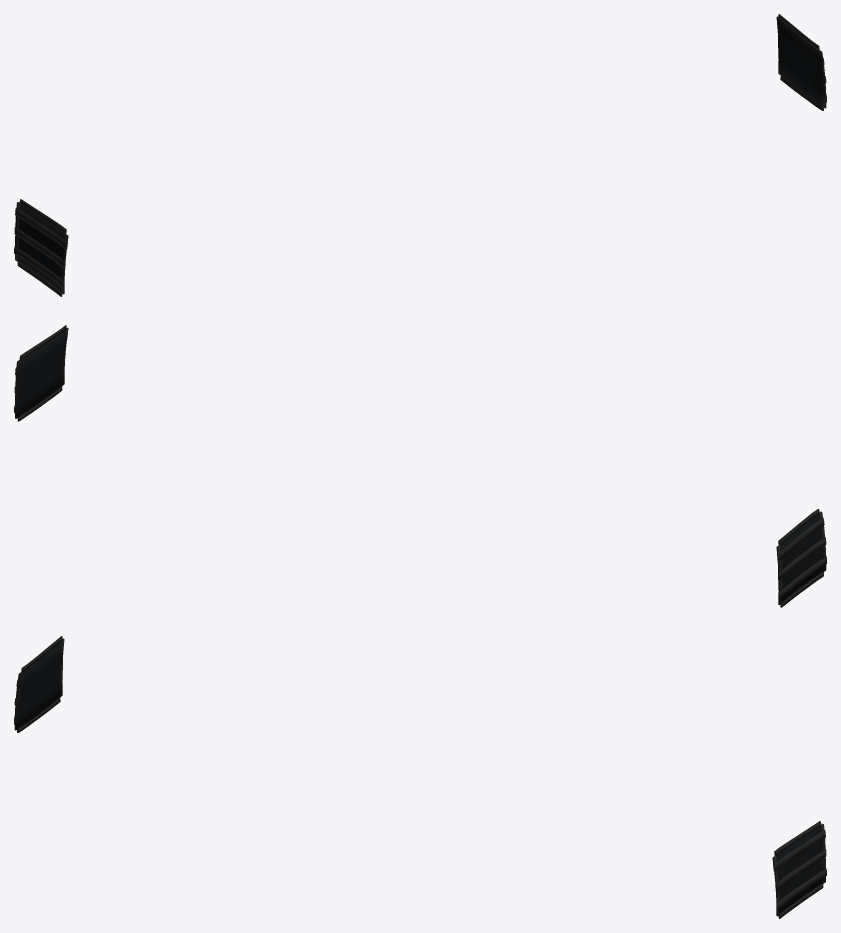
The model's file is DT48_fender_vents.glb.
The picture shows the model from 3 angles, top to bottom: view 1: azimuth 30°, elevation 25°; view 2: azimuth 150°, elevation 25°; view 3: azimuth 330°, elevation 25°; orthographic projection.
Visible parts, largest first — view 1: MOD_ND_DT48_recess_L, MOD_ND_DT48_recess_R; view 2: MOD_ND_DT48_recess_L, MOD_ND_DT48_recess_R; view 3: MOD_ND_DT48_recess_R, MOD_ND_DT48_recess_L.
Boxes of the visible parts, x1,y1,x2,y2 form: MOD_ND_DT48_recess_L: (777, 18, 825, 107); MOD_ND_DT48_recess_R: (18, 202, 68, 291); MOD_ND_DT48_recess_L: (16, 328, 68, 418); MOD_ND_DT48_recess_R: (777, 514, 822, 601); MOD_ND_DT48_recess_R: (16, 639, 63, 730); MOD_ND_DT48_recess_L: (772, 826, 822, 913).
Size of the model in its own units: 1.68 by 0.1387 by 0.1839.
Materials: 2 (1 with a texture image).
